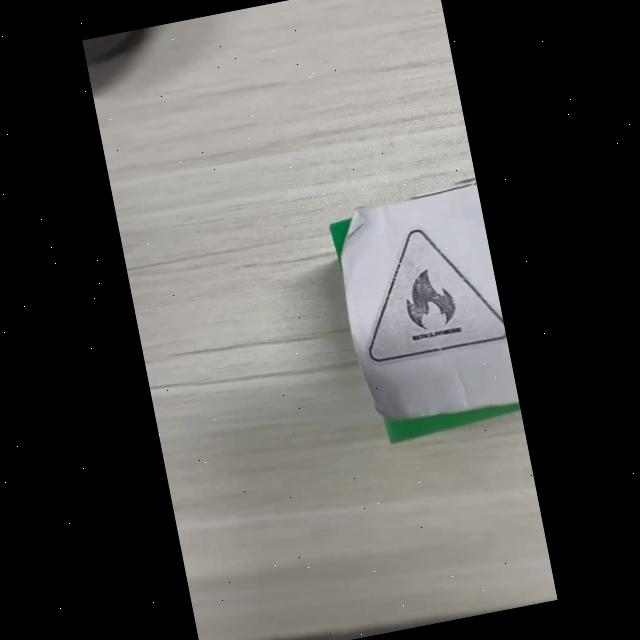Fire: (369, 229, 506, 361)
